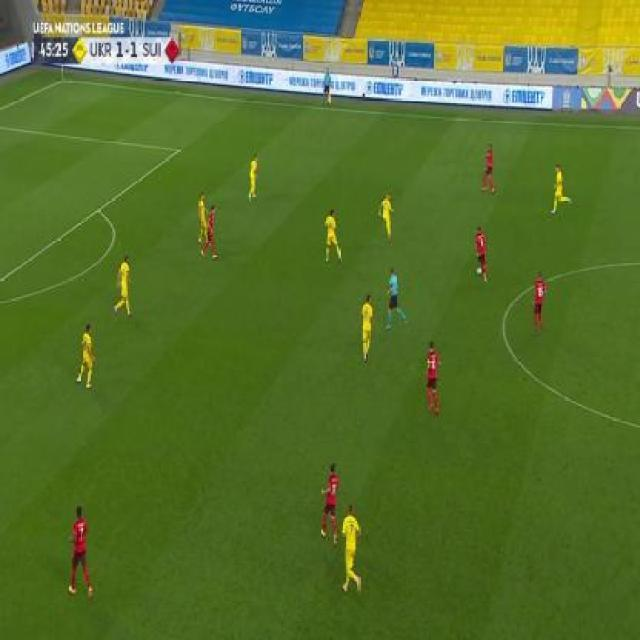player: (66, 506, 95, 600), (339, 502, 364, 596), (319, 460, 342, 545), (383, 267, 408, 332), (112, 252, 134, 320), (75, 322, 97, 390), (423, 340, 442, 416), (322, 207, 344, 264), (550, 164, 573, 217), (358, 292, 374, 363), (531, 270, 548, 336), (201, 204, 220, 261), (473, 224, 489, 281), (479, 143, 496, 196), (377, 190, 394, 241), (195, 191, 208, 248), (247, 153, 260, 201), (322, 68, 333, 108)
